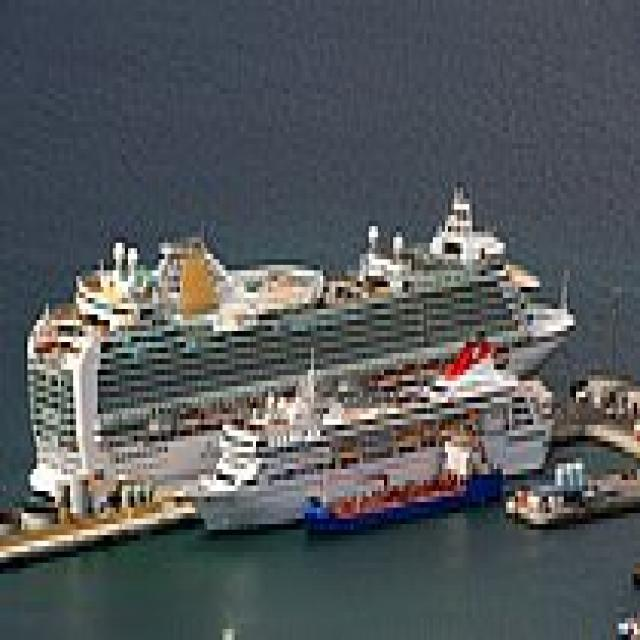Ship: (19, 178, 586, 503)
